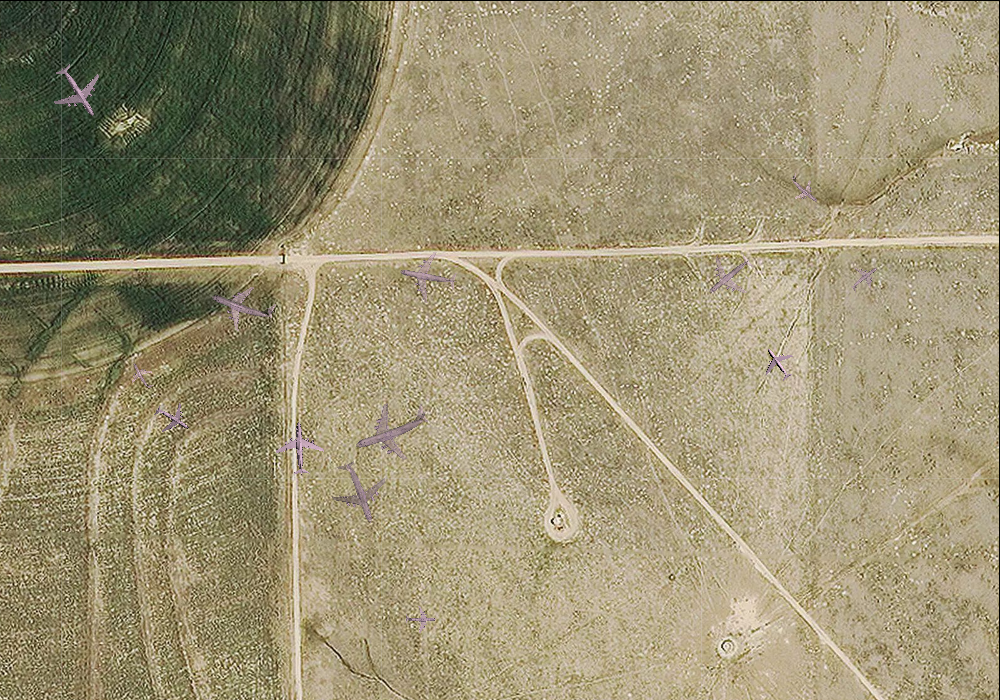plane: (342, 383, 439, 476), (318, 451, 397, 533), (202, 266, 283, 343), (39, 52, 115, 129), (694, 240, 764, 310), (394, 244, 461, 308), (274, 421, 325, 476), (146, 393, 197, 444), (754, 339, 802, 388), (781, 165, 828, 211), (842, 256, 887, 301), (122, 355, 160, 395), (404, 604, 436, 634)
